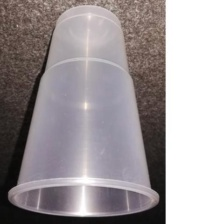glass: (4, 0, 162, 219)
